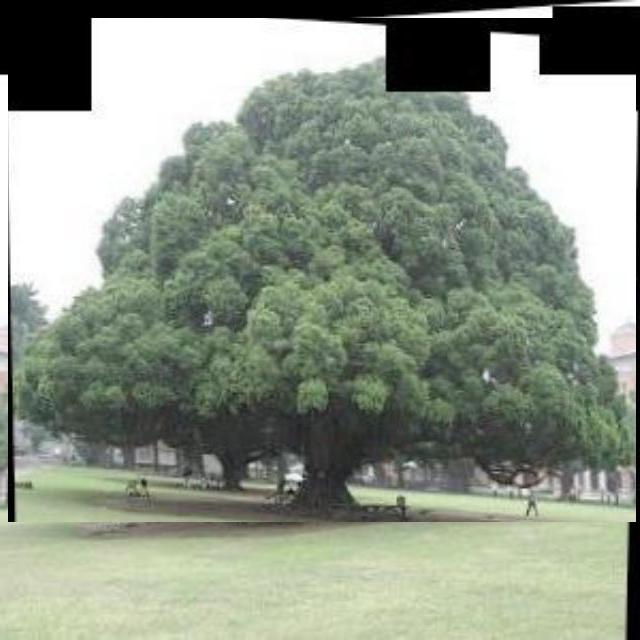tree: (8, 18, 636, 522)
